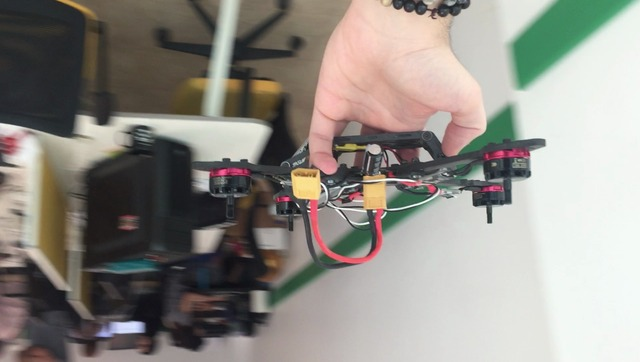drone: (189, 129, 548, 268)
